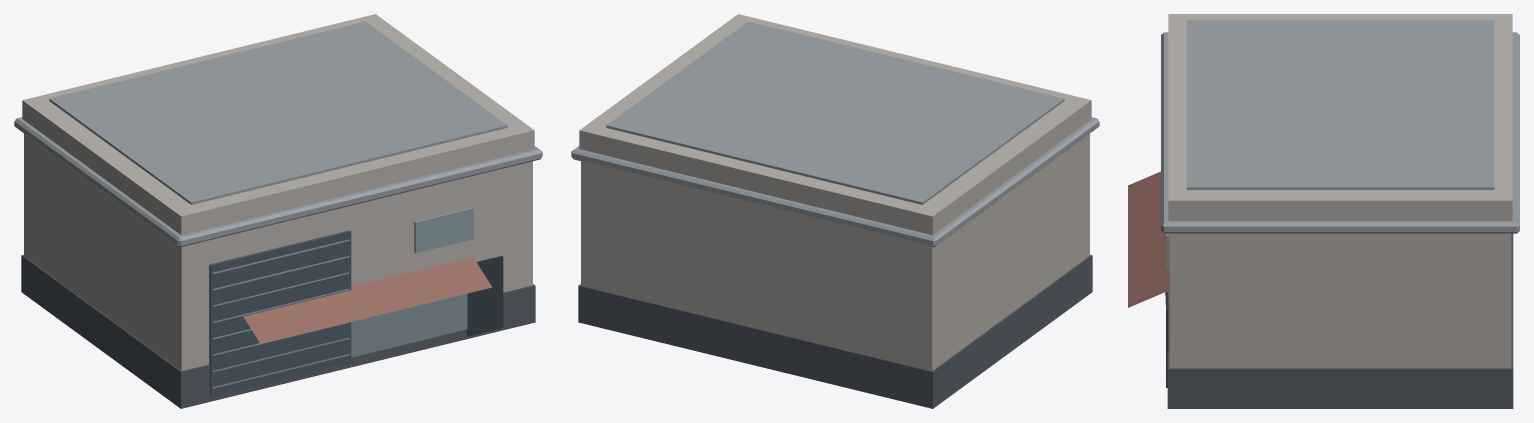
Rendered from edificio_depot.glb.
The picture shows the model from 3 angles, left to right: view 1: azimuth 30°, elevation 25°; view 2: azimuth 150°, elevation 25°; view 3: azimuth 270°, elevation 25°; orthographic projection. The views are drawn at different scales.
Bounding box in the file's own units: 9.35 × 4.78 × 8.02.
